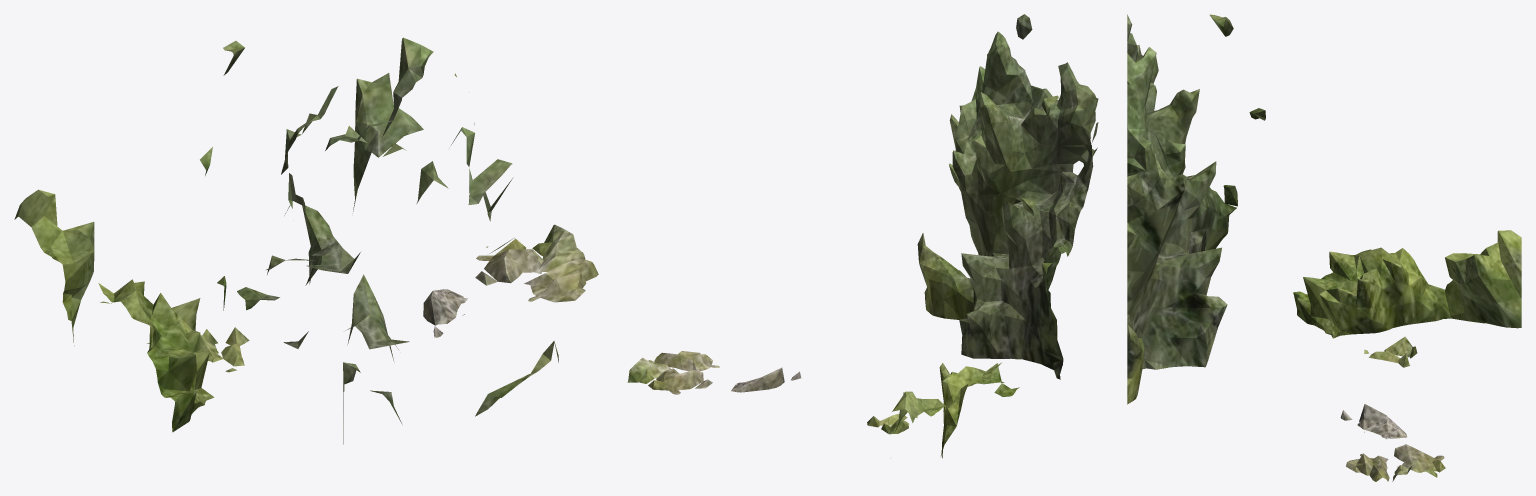
3 renders of one model, left to right at view 1: azimuth 30°, elevation 25°; view 2: azimuth 150°, elevation 25°; view 3: azimuth 270°, elevation 25°, orthographic. The views are drawn at different scales.
Bounding box in the file's own units: 11.8 × 11.21 × 11.8.
Materials: 2 (2 with a texture image).
